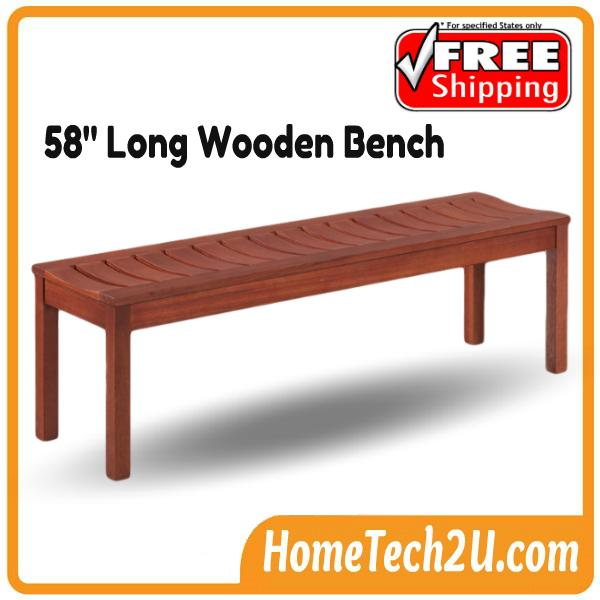chairs: (23, 192, 572, 481)
